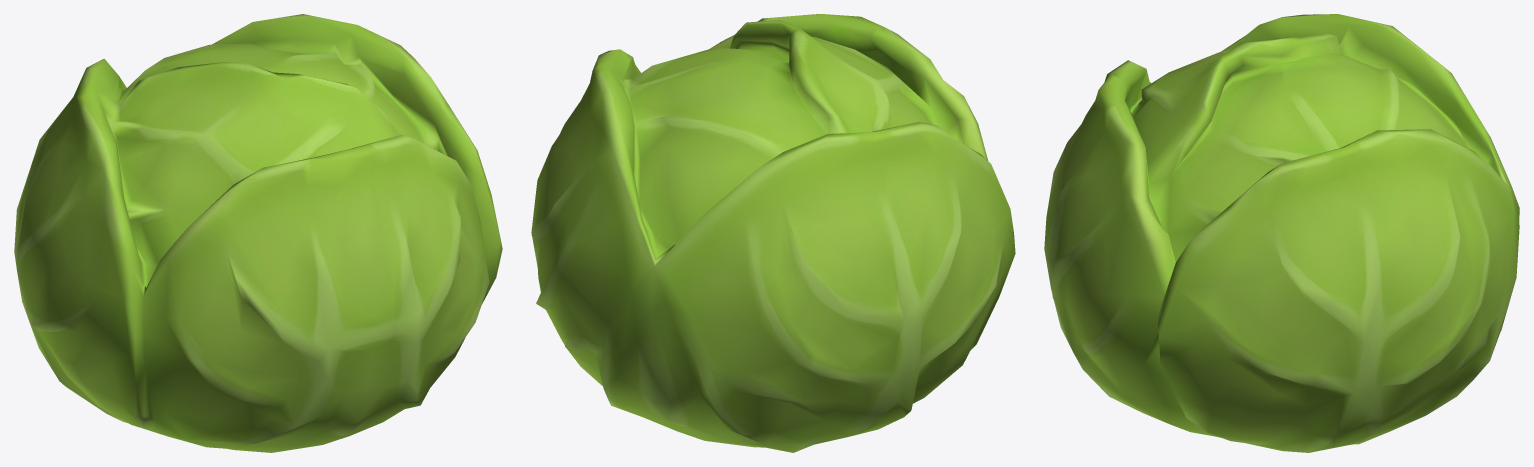
File: Cabbage.fbx
3 renders of one model, left to right at view 1: azimuth 30°, elevation 25°; view 2: azimuth 150°, elevation 25°; view 3: azimuth 270°, elevation 25°, orthographic.
Visible parts, largest first — view 1: tripo_node_d8b2369a; view 2: tripo_node_d8b2369a; view 3: tripo_node_d8b2369a.
Boxes of the visible parts, x1,y1,x2,y2 form: tripo_node_d8b2369a: (14,14,502,452); tripo_node_d8b2369a: (531,14,1015,452); tripo_node_d8b2369a: (1044,14,1519,452).
Bounding box in the file's own units: 0.999 × 0.8786 × 1.
Materials: 1 (1 with a texture image).
